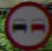No overtake: (4, 1, 47, 44)
